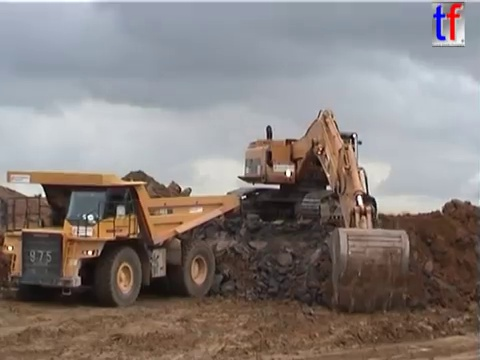excavator: (222, 106, 414, 315)
truck: (1, 169, 243, 308)
